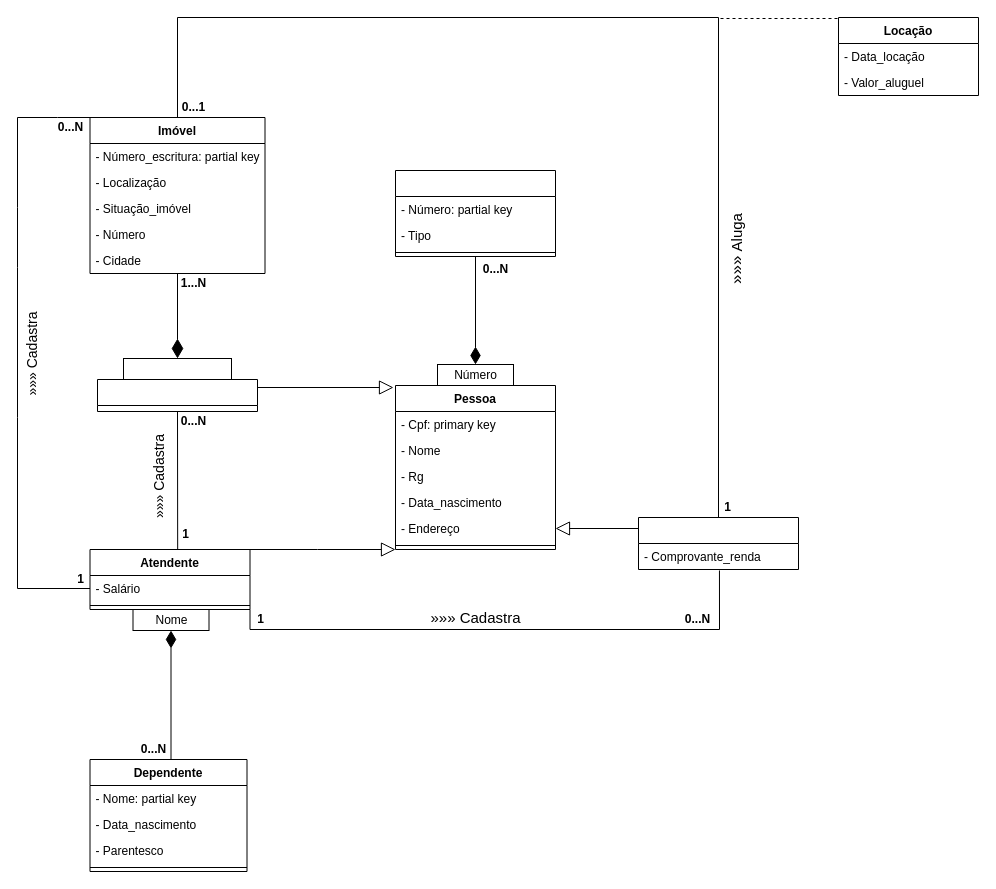
Some shapes in this 996 by 889 pixel diagram are drawn without their labels. The box of each missing label's shape, as (x1, y1, x2, y2) in pixels:
Cliente: (638, 516, 798, 570)
Número_escritura: (122, 358, 232, 380)
Proprietário: (96, 378, 258, 412)
Telefone: (394, 170, 556, 256)
